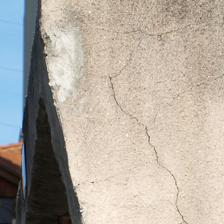Crack: (8, 15, 154, 50), (38, 55, 149, 91)
